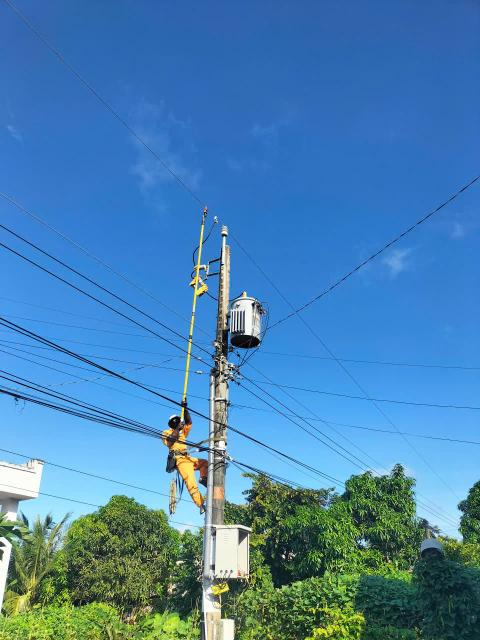gloves: (179, 398, 193, 427)
harness: (170, 446, 196, 458)
helmet: (165, 414, 184, 425)
shoes: (192, 503, 209, 514), (198, 476, 213, 487)
